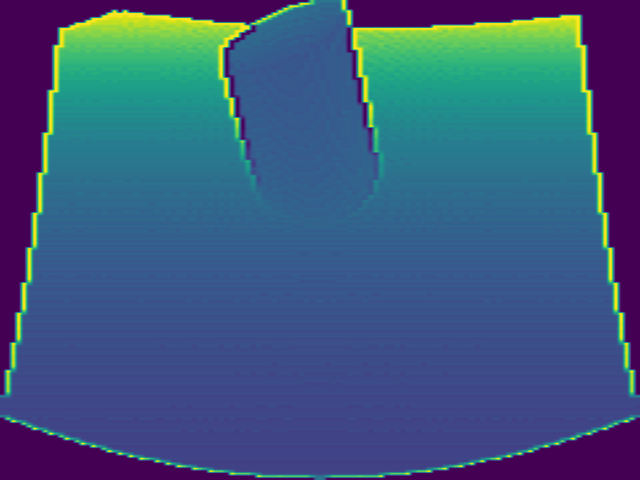cylinder: (220, 1, 382, 228)
